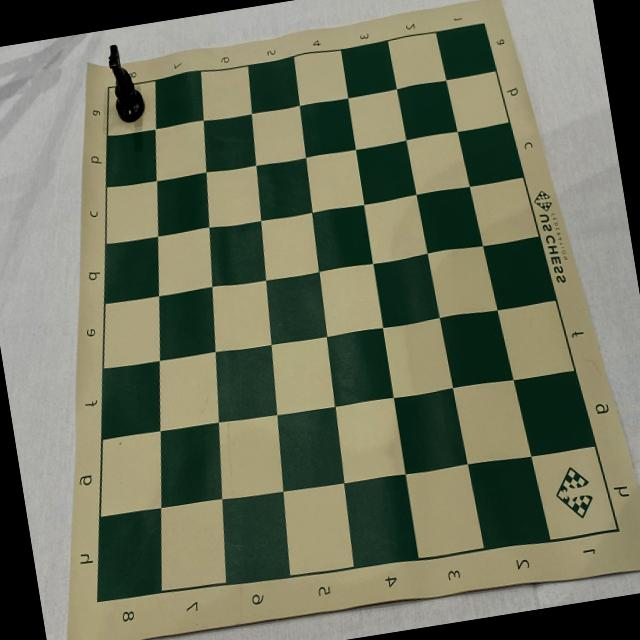black-knight: (104, 40, 148, 126)
